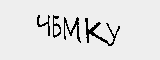Б: (47, 15, 62, 39)
К: (85, 18, 104, 45)
М: (62, 17, 82, 45)
У: (105, 20, 120, 49)
Ч: (36, 13, 51, 39)
